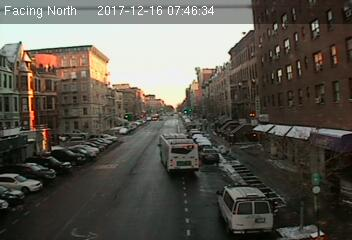bus: (157, 133, 199, 177)
car: (200, 148, 220, 163)
police: (214, 182, 273, 235)
